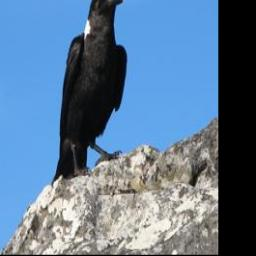Crow: (50, 0, 129, 188)
